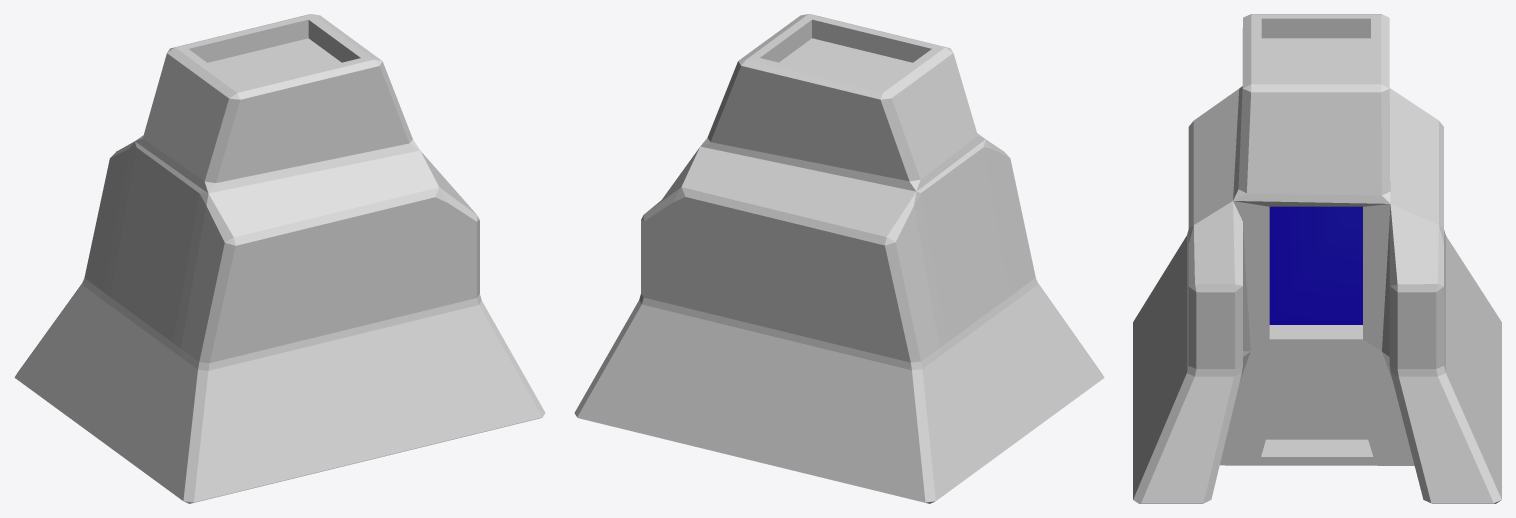
Rendered from House3(Updated).fbx.
The picture shows the model from 3 angles, left to right: view 1: azimuth 30°, elevation 25°; view 2: azimuth 150°, elevation 25°; view 3: azimuth 270°, elevation 25°; orthographic projection. The views are drawn at different scales.
Visible parts, largest first — view 1: Cube; view 2: Cube; view 3: Cube.
Boxes of the visible parts, left/top/right/bottom form: Cube: left=14, top=14, right=545, bottom=503; Cube: left=574, top=14, right=1104, bottom=503; Cube: left=1133, top=14, right=1501, bottom=503.
Bounding box in the file's own units: 6.93 × 6.35 × 5.85.
